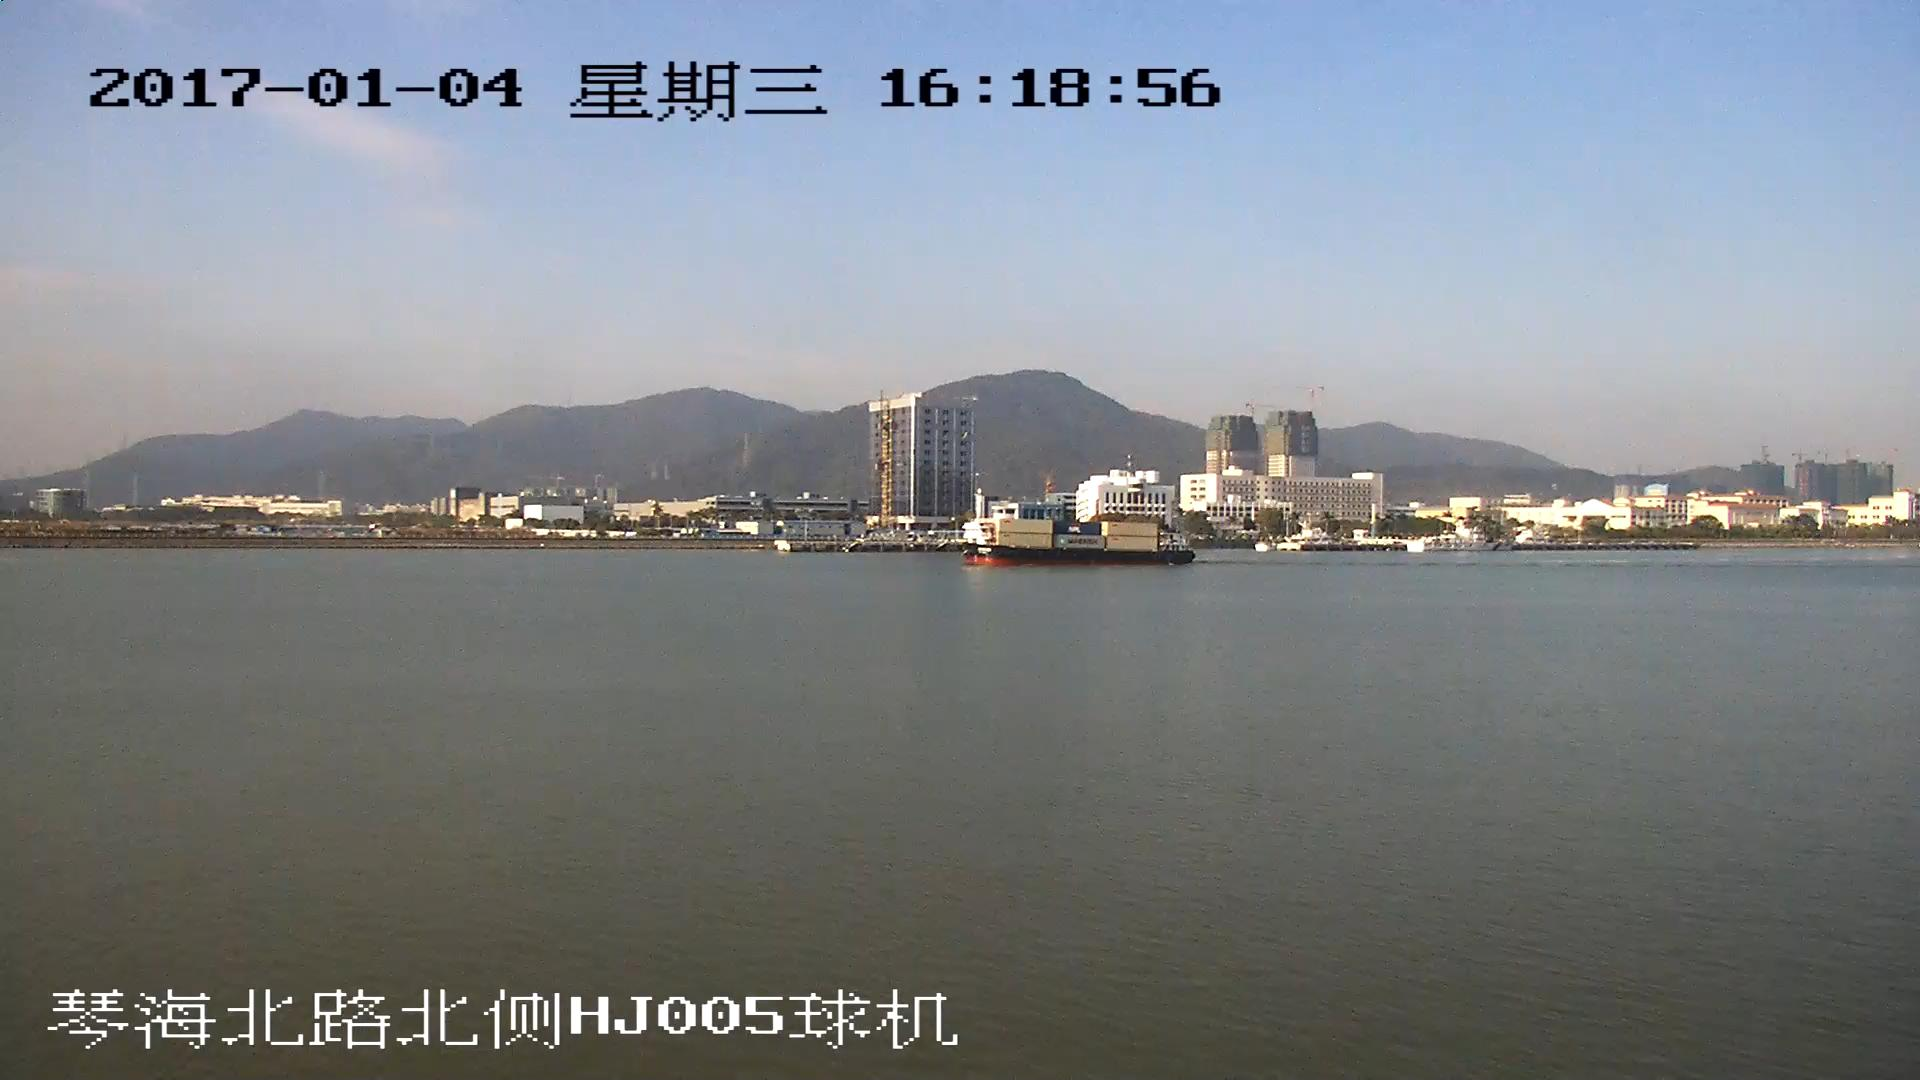container ship: (963, 517, 1200, 568)
